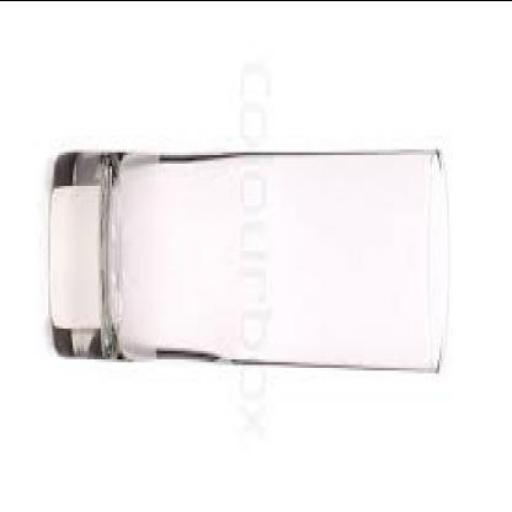glass: (54, 146, 451, 372)
